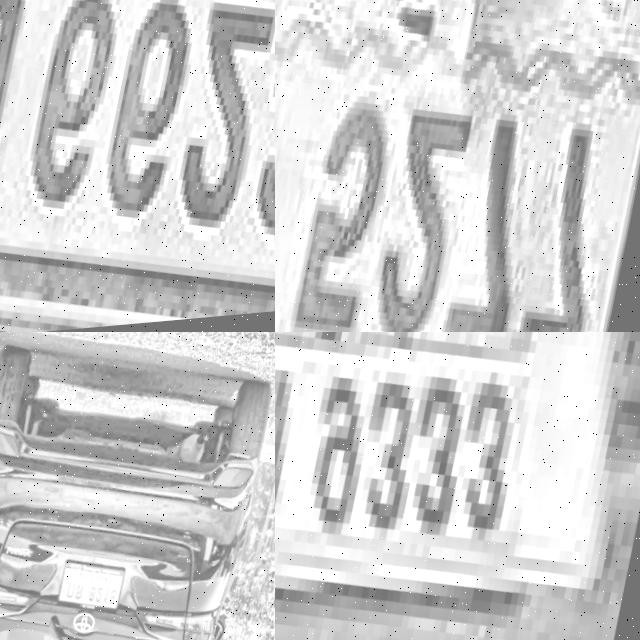license-plate: (275, 0, 640, 332), (275, 332, 640, 640), (0, 0, 275, 332), (51, 554, 127, 625)
